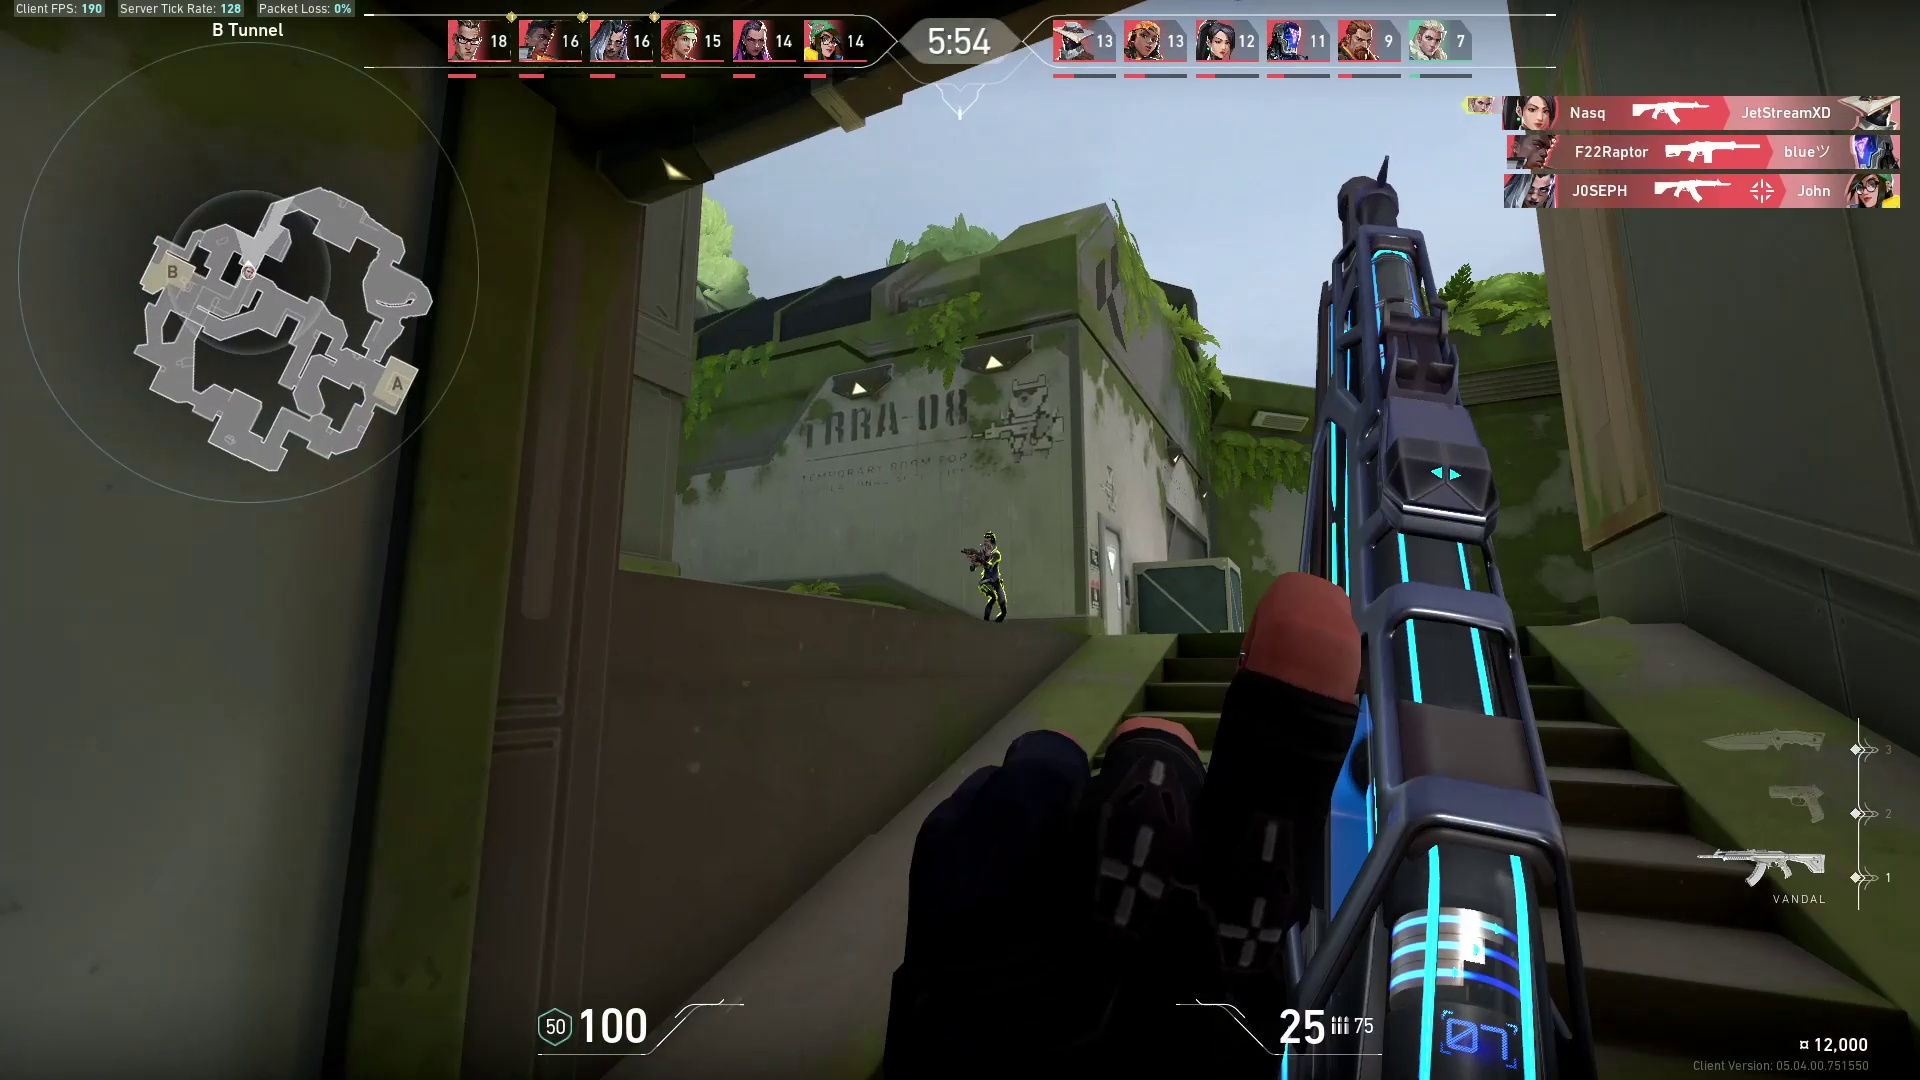enemy_body: (963, 546, 1014, 626)
enemy_head: (974, 526, 1003, 551)
